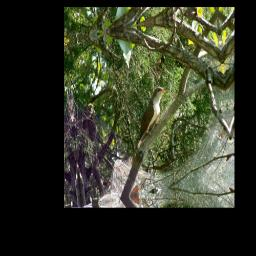Cuckoo: (123, 83, 174, 164)
